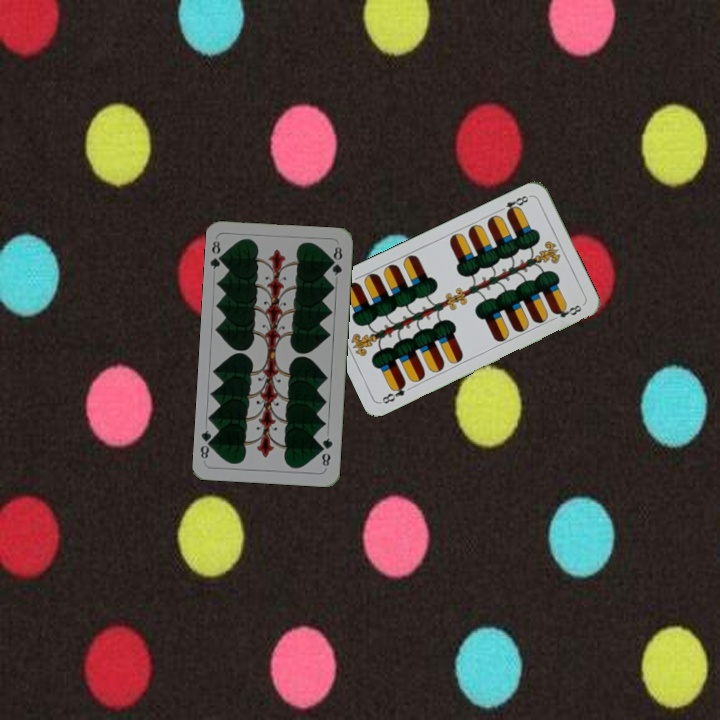E8: (495, 191, 533, 217), (377, 378, 409, 407)
G8: (207, 237, 227, 272), (317, 434, 335, 469)
